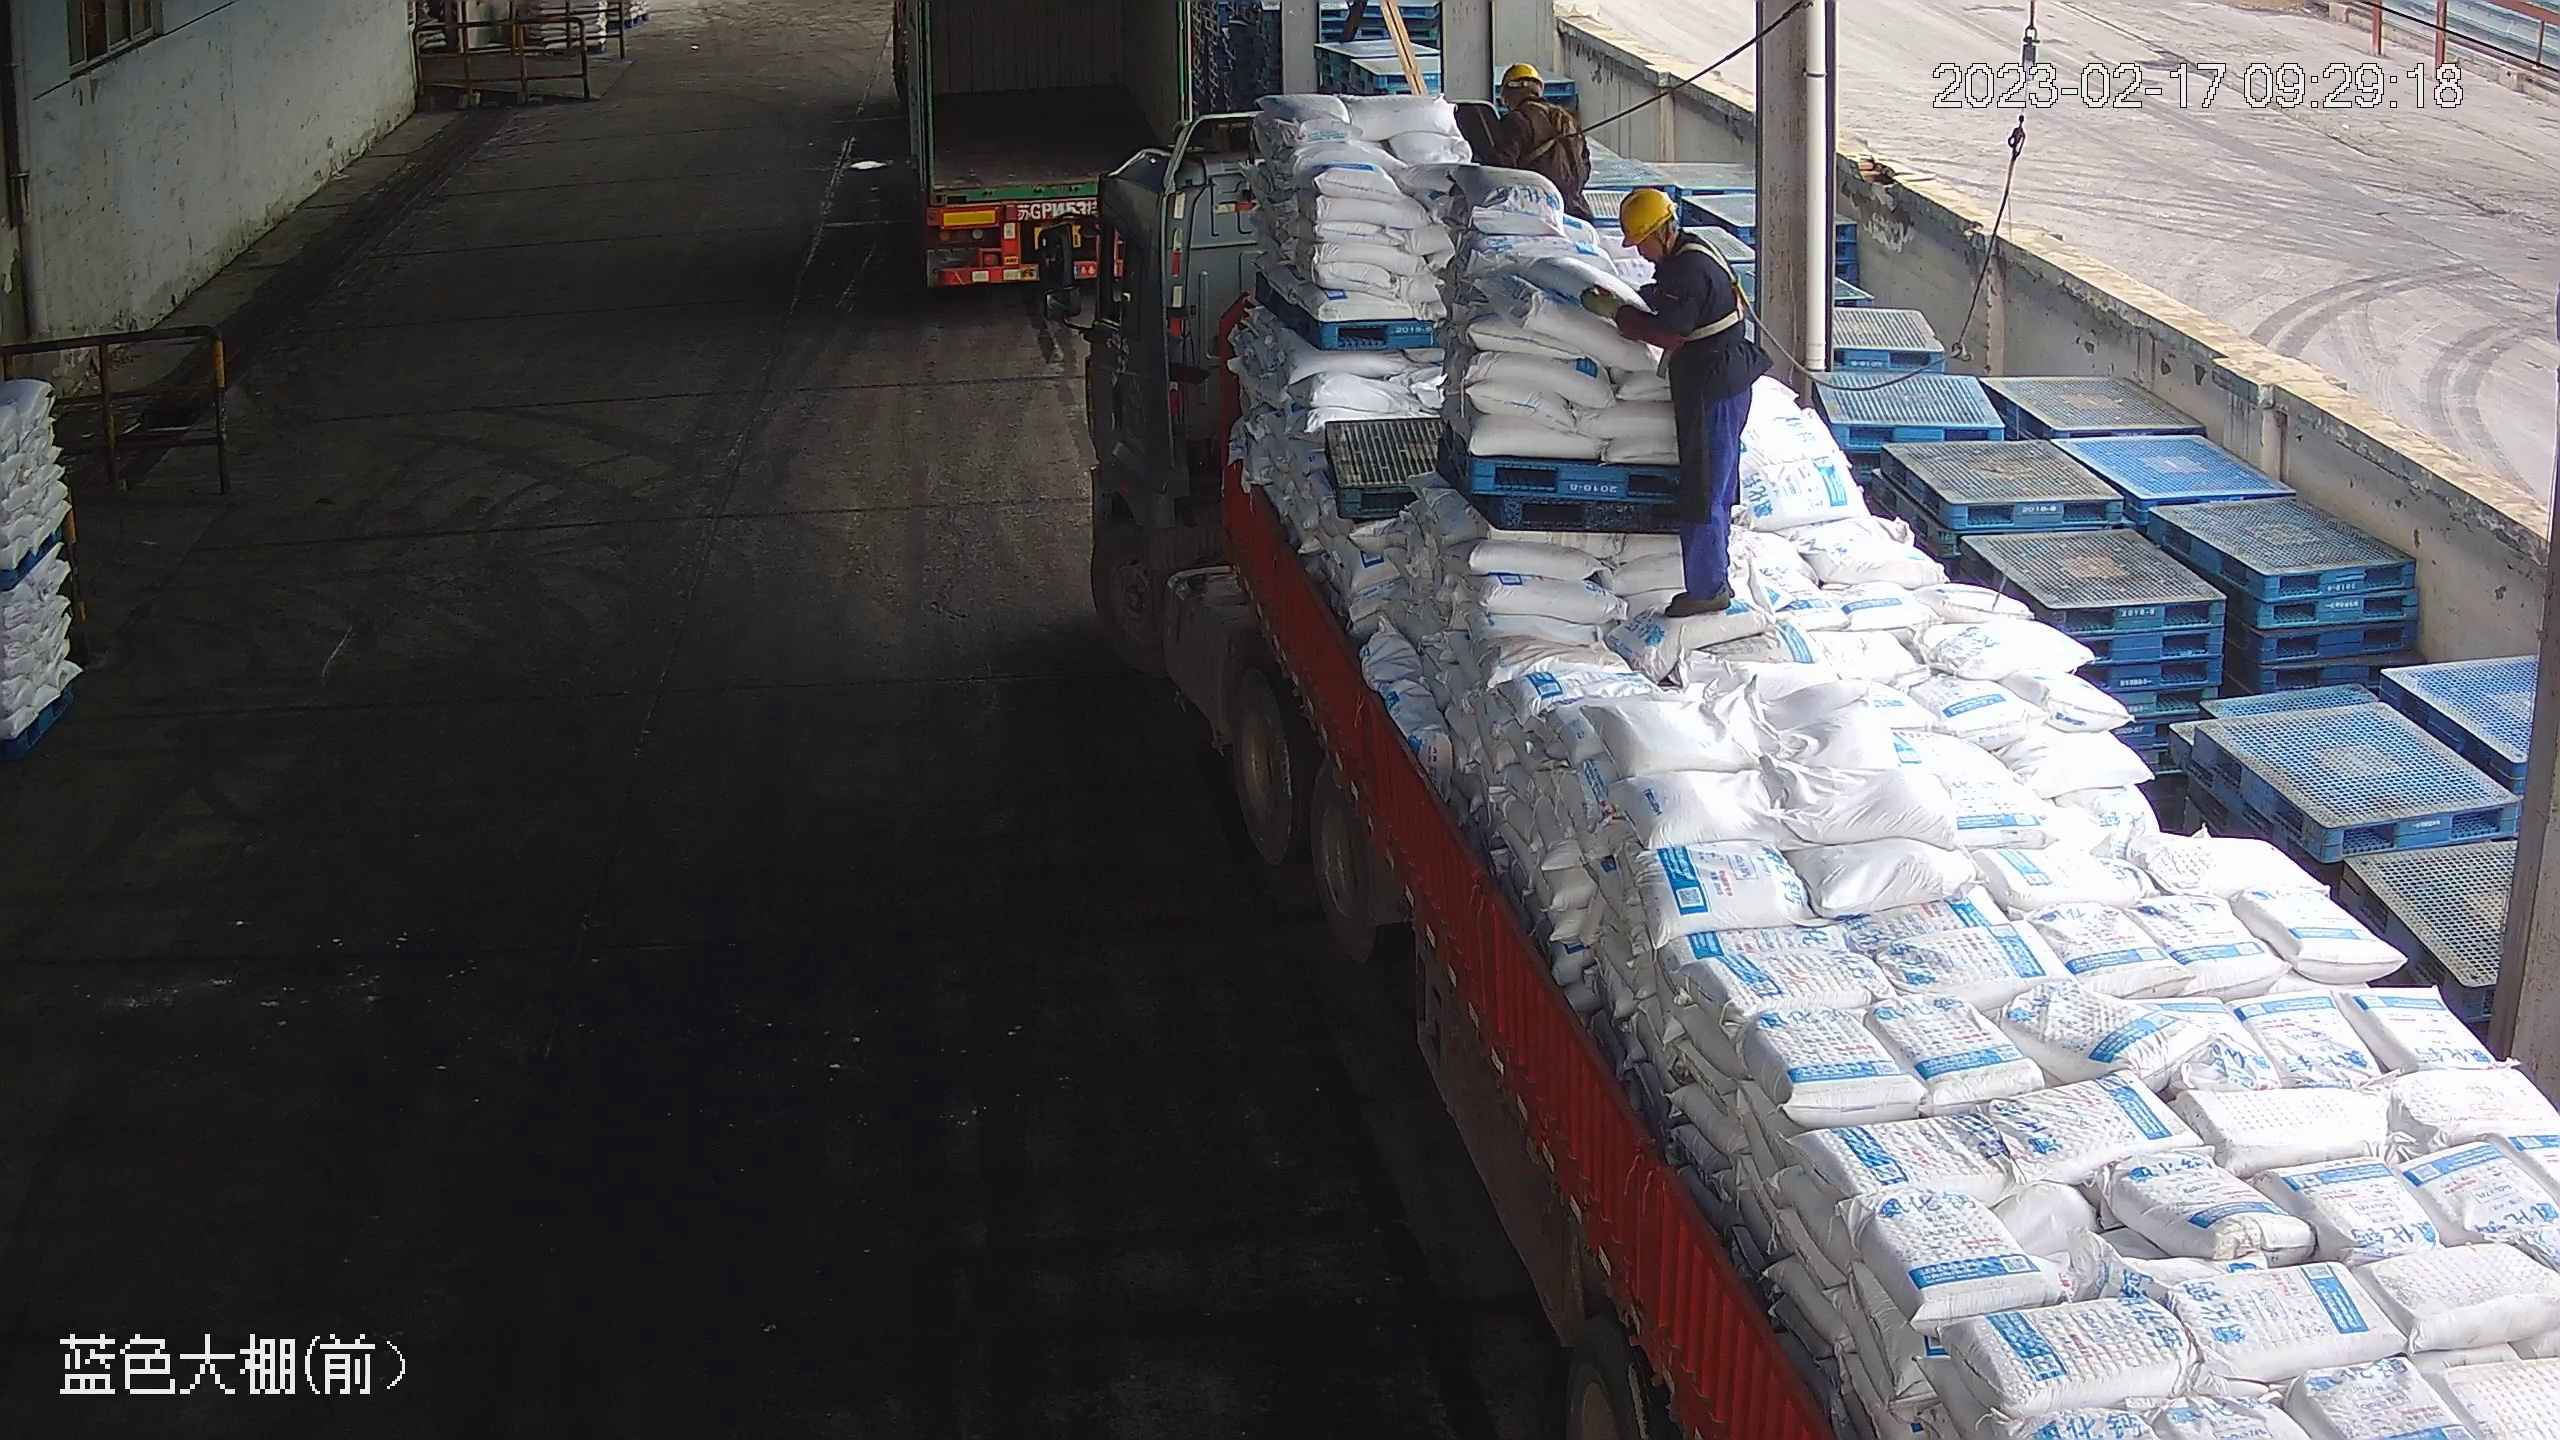belt: (1678, 234, 1776, 342), (1513, 99, 1599, 168)
head: (1604, 187, 1741, 330), (1489, 61, 1589, 164)
helmet: (1619, 186, 1674, 247), (1499, 59, 1544, 98)
people: (1583, 183, 1781, 623)
truck: (1032, 108, 2560, 1440), (884, 1, 1213, 303)
